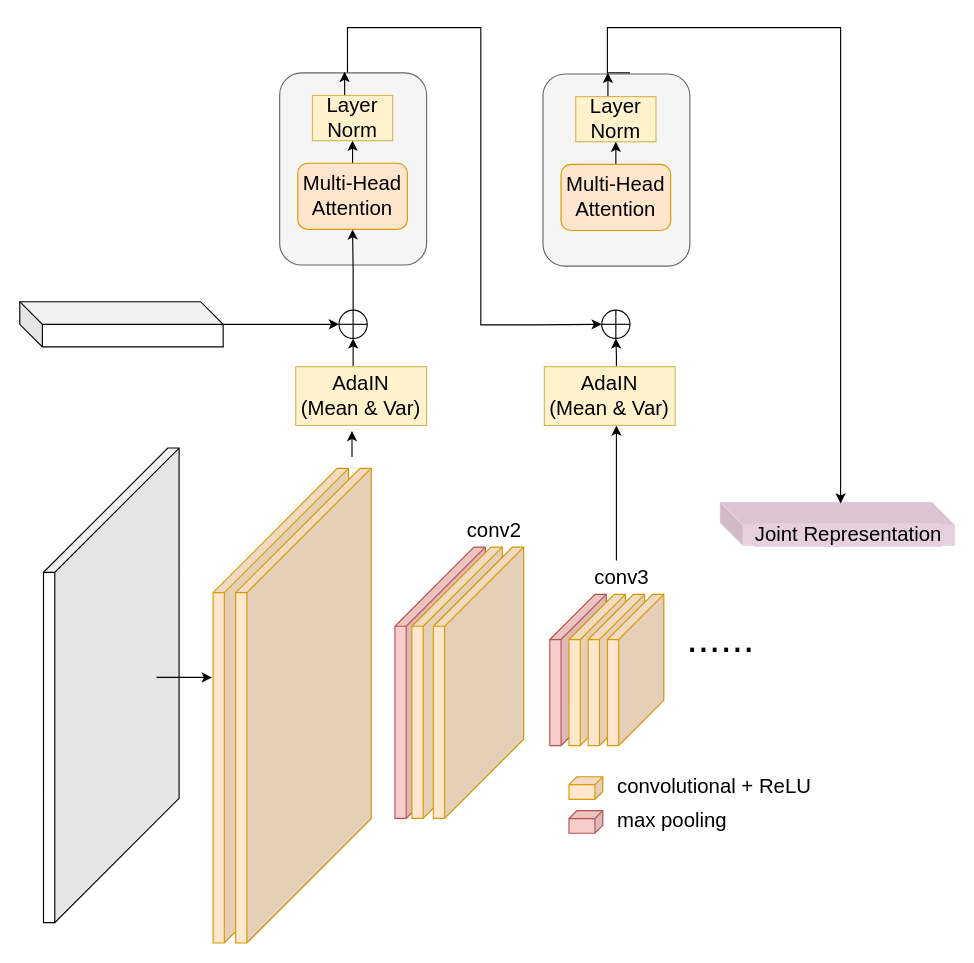
Image size: 974x963. Some labels were removed from this diagram. The shapes that lost their labels are listed below. From the top down, each one's centre as x and y in pixels, then its label:
At (x=121, y=324): "Product Description".
At (x=110, y=685): "Product Image".
At (x=302, y=705): "conv1".
